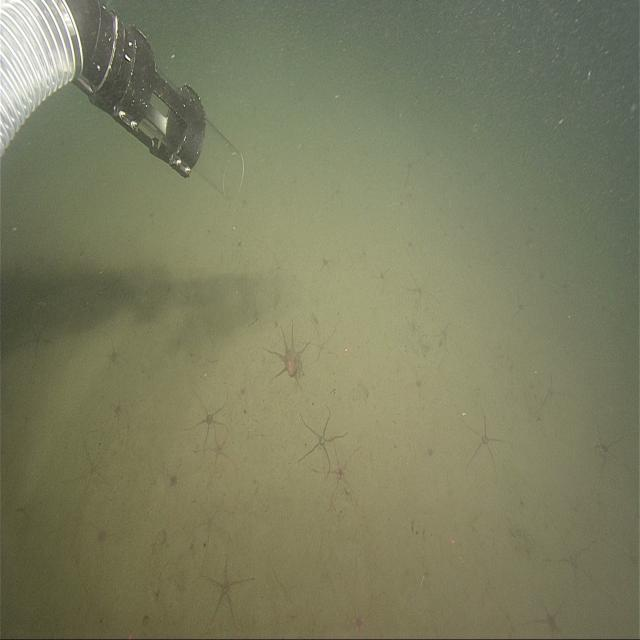Brittle Star: (201, 553, 254, 635), (296, 402, 349, 482), (465, 400, 510, 482), (586, 410, 633, 481), (320, 437, 361, 511), (186, 381, 230, 445), (529, 367, 571, 422), (156, 446, 191, 506), (97, 330, 131, 381)
Not Brittle Star: (105, 4, 248, 207), (266, 314, 311, 390)
